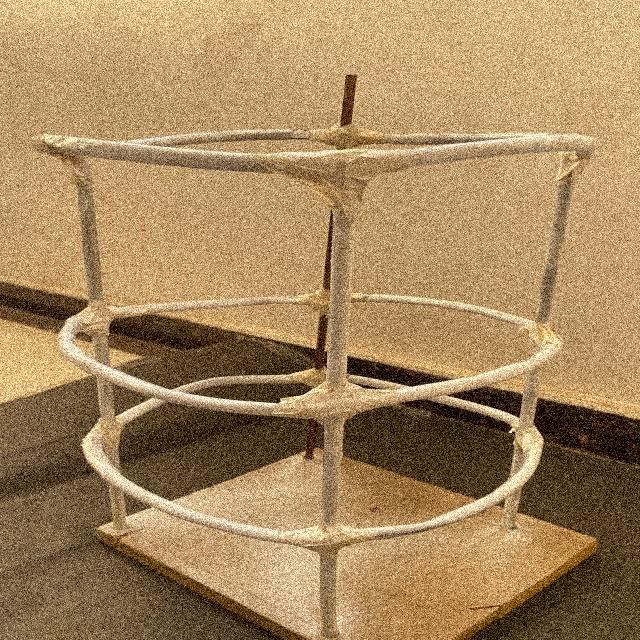silo: (3, 98, 594, 640)
